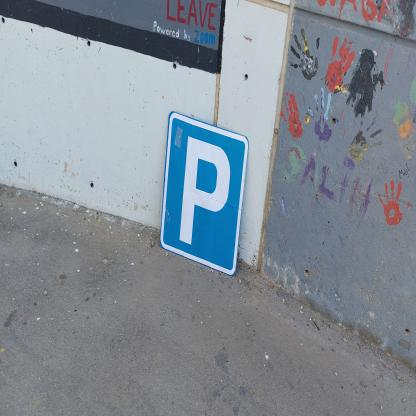Parking-Sign: (161, 113, 251, 277)
